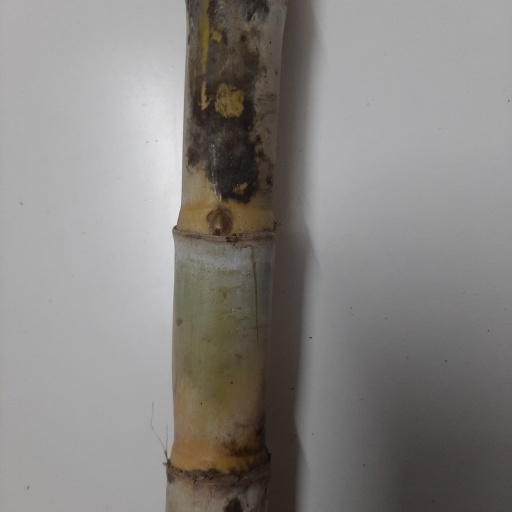Bud: (206, 208, 234, 237)
